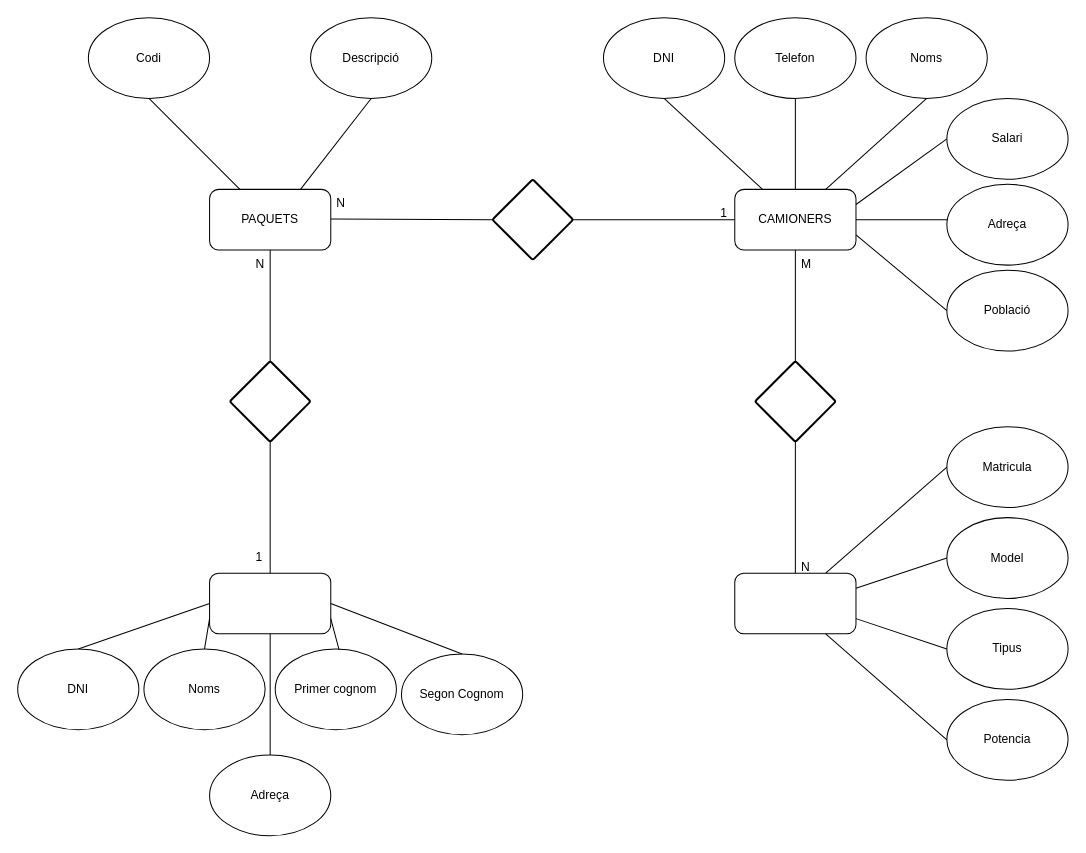
The diagram is 1086 pixels wide and 853 high, and some of its shapes have lost their labels. The shapes that lost their labels are listed below. From the top down, each one's box as (x1, y1, x2, y2) in pixels, then its label:
(491, 178, 574, 261): transportar
(228, 360, 311, 442): rebre
(753, 360, 836, 442): conduir
(209, 572, 331, 634): CLIENTS
(734, 572, 856, 634): CAMIONS
